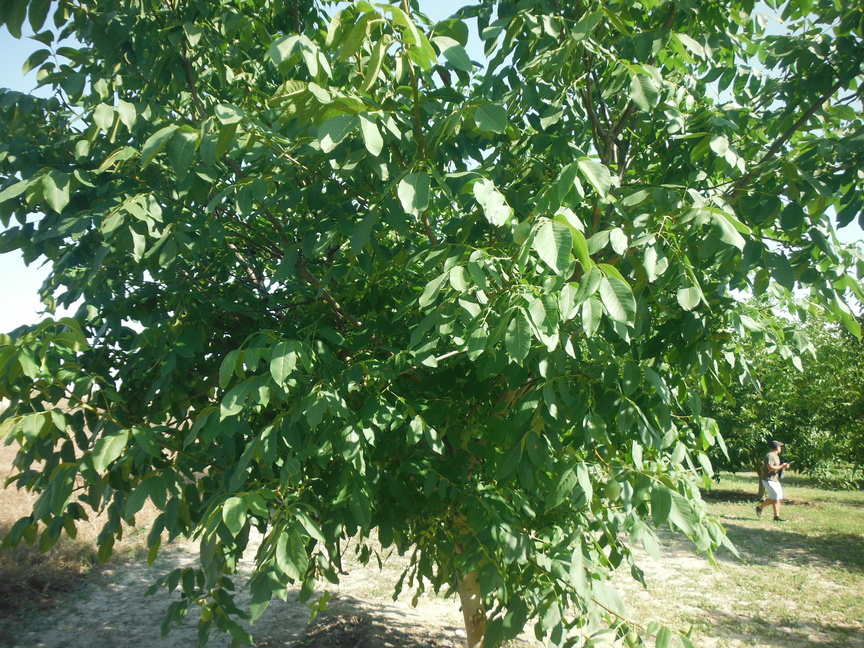walnut: (602, 475, 621, 501), (197, 603, 216, 625), (43, 94, 62, 115), (623, 630, 643, 648), (491, 478, 506, 499), (710, 326, 725, 343), (458, 427, 473, 443), (721, 327, 733, 341), (294, 305, 306, 318), (467, 423, 480, 435)
